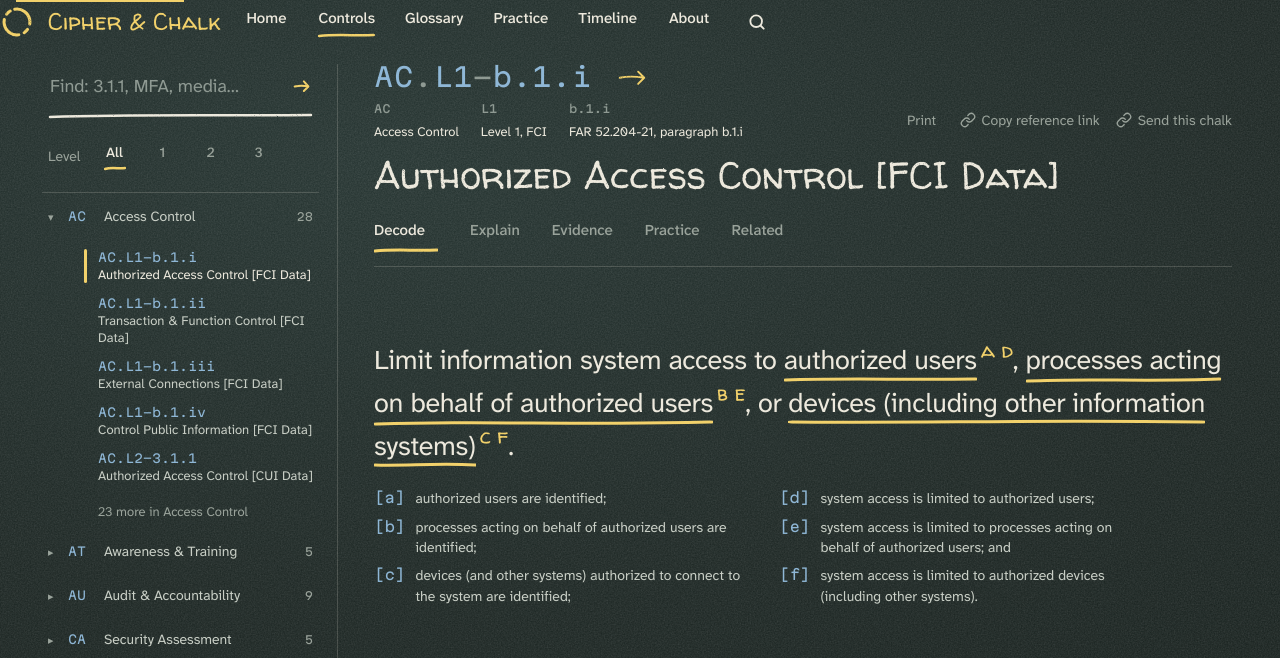
Test: the rail of every control › opens a family in place beside a control, and the control stays
Click the link "▸ AT Awareness & Training 5": (180, 551) [48,542,313,560]
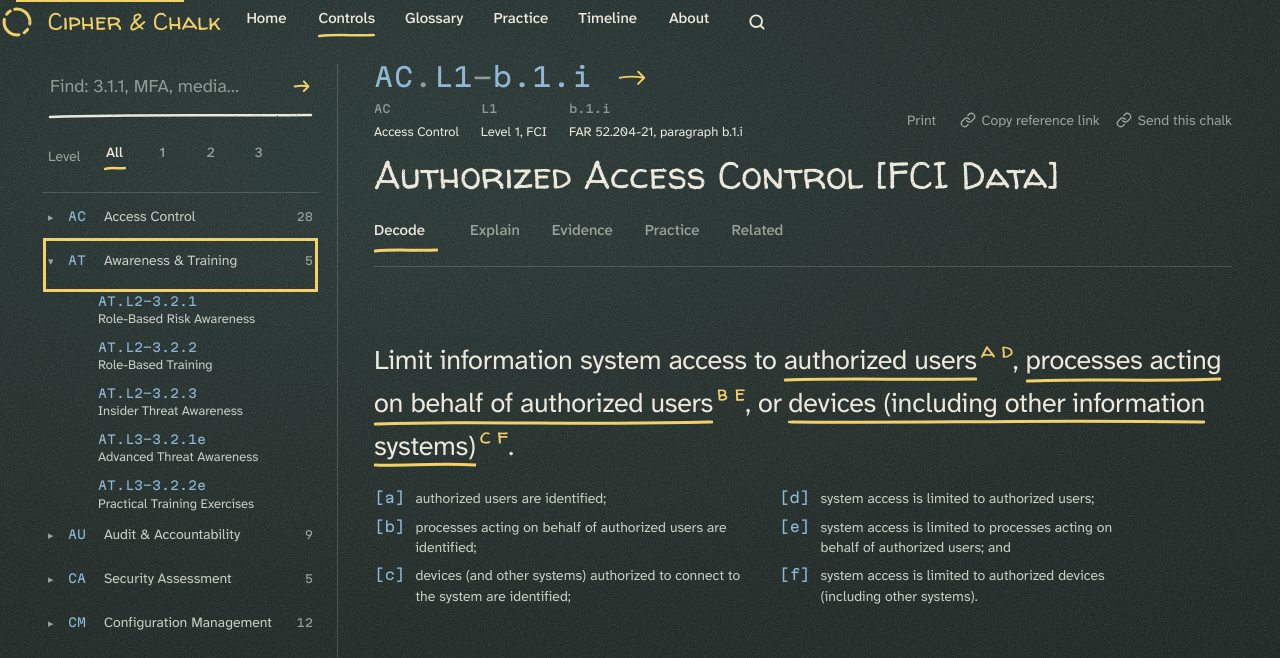
Check: the heading "Authorized Access Control [FCI Data]" is shown, box [374,149,1059,201]
Check: the link "▾ AT Awareness & Training 5" is expanded
Check: the link "AT.L2-3.2.1 Role-Based Risk Awareness" is shown, box [98,294,255,327]
Click the link "▾ AT Awareness & Training 5": (180, 260) [48,251,313,269]
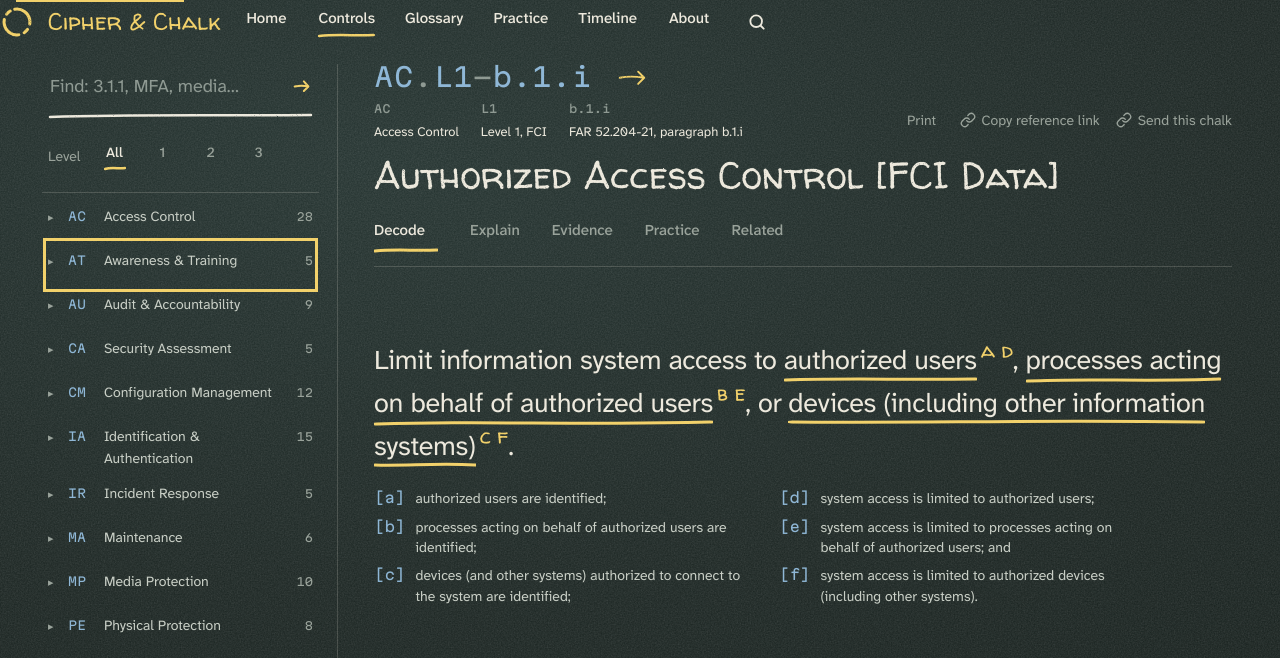
Check: the link "▸ AT Awareness & Training 5" is collapsed, box [48,251,313,269]
